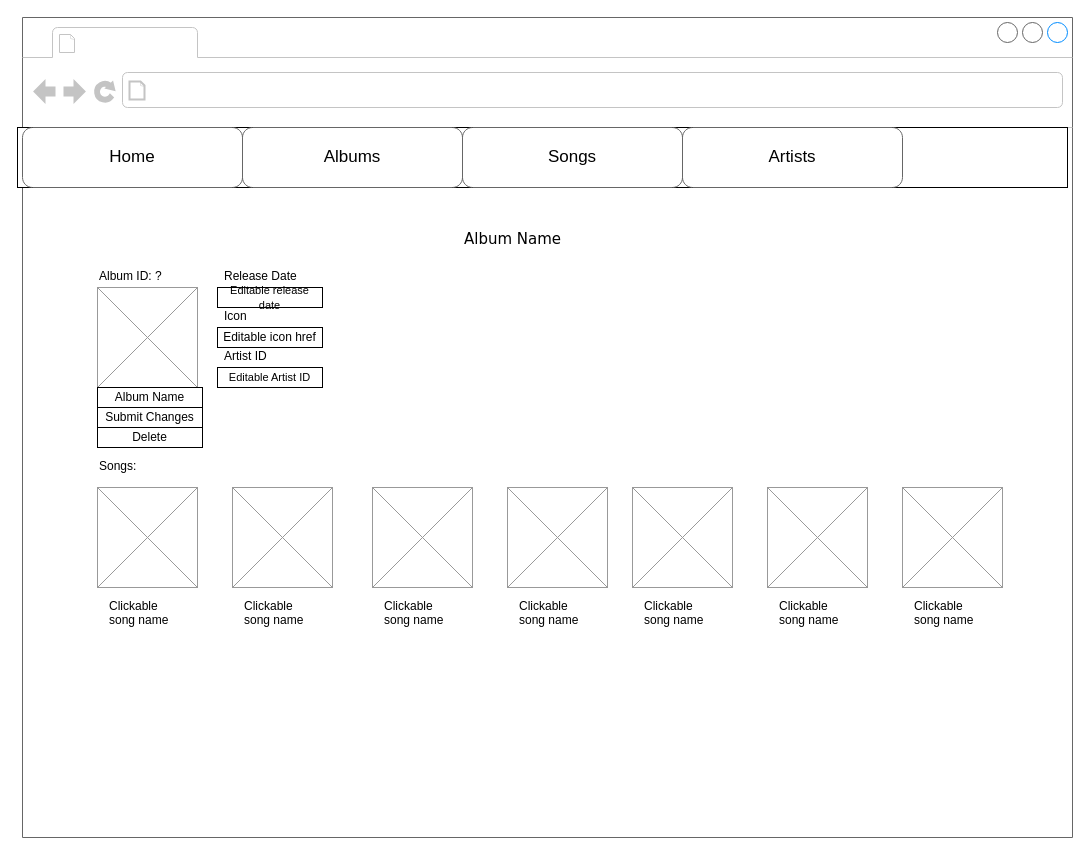
Image size: 1090x855. Some labels were removed from this diagram. Here are the shapes that lost their labels. From the top down, the box of each, then its label:
(82, 28, 192, 56): Page 1
(152, 76, 402, 104): https://www.default.com/albums/album
